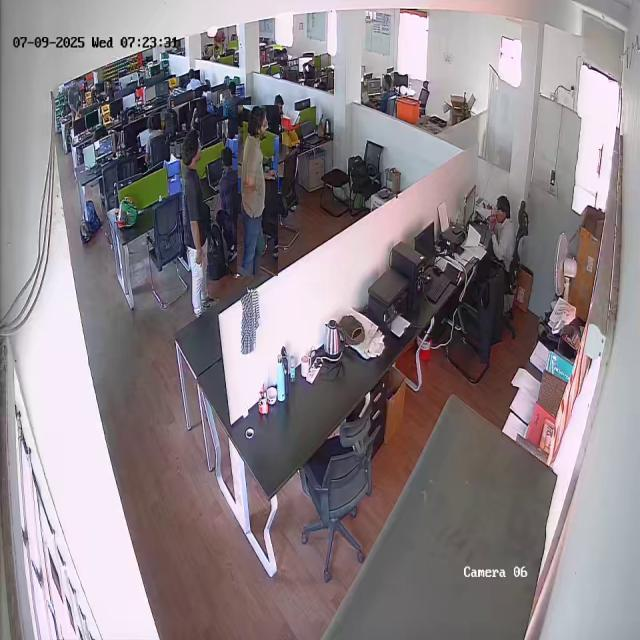person: (176, 130, 217, 316), (238, 105, 279, 276), (485, 195, 516, 261)
